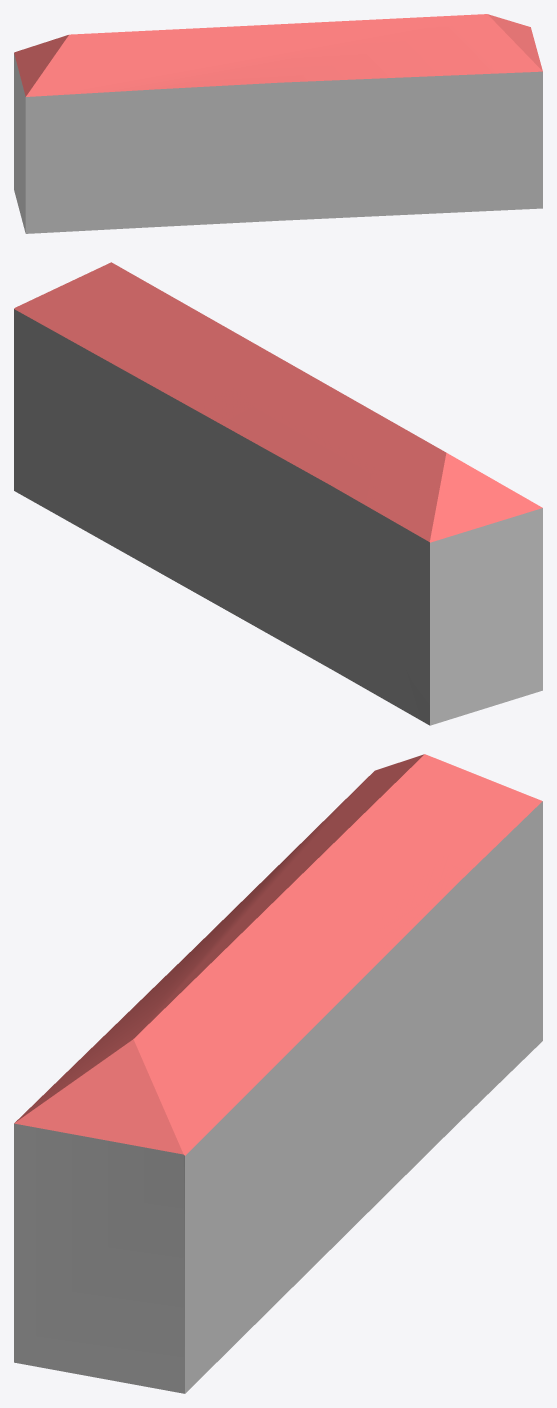
File: DEBY_LOD2_4907034.gltf
The picture shows the model from 3 angles, top to bottom: view 1: azimuth 30°, elevation 25°; view 2: azimuth 150°, elevation 25°; view 3: azimuth 270°, elevation 25°; orthographic projection. The views are drawn at different scales.
Parts seen in each view (by area): view 1: Z_UP; view 2: Z_UP; view 3: Z_UP.
Boxes of the visible parts, <box> form: Z_UP: <box>14,14,542,233</box>; Z_UP: <box>14,262,542,725</box>; Z_UP: <box>14,754,542,1393</box>.
Bounding box in the file's own units: 52.27 × 19.36 × 30.42.
